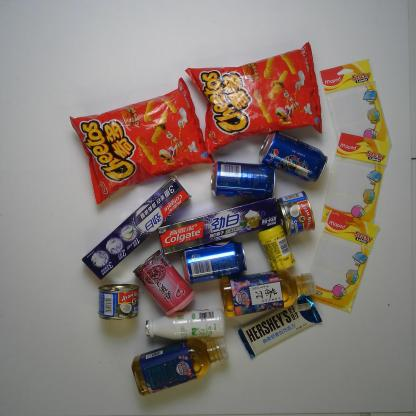Canned Food: (132, 249, 196, 316), (275, 190, 316, 237), (98, 283, 139, 321)
Chocolate: (237, 293, 323, 359)
Drink: (131, 337, 229, 396), (219, 269, 317, 318), (257, 130, 328, 184), (181, 240, 247, 284), (209, 160, 276, 200)
Gum: (258, 224, 296, 273)
Milk: (145, 308, 225, 341)
Personal Hygiene: (81, 174, 193, 281), (158, 196, 284, 255)
Puffed Food: (69, 78, 216, 206), (184, 41, 322, 156)
Stationery: (303, 209, 381, 314), (319, 58, 392, 150), (320, 133, 392, 226)
